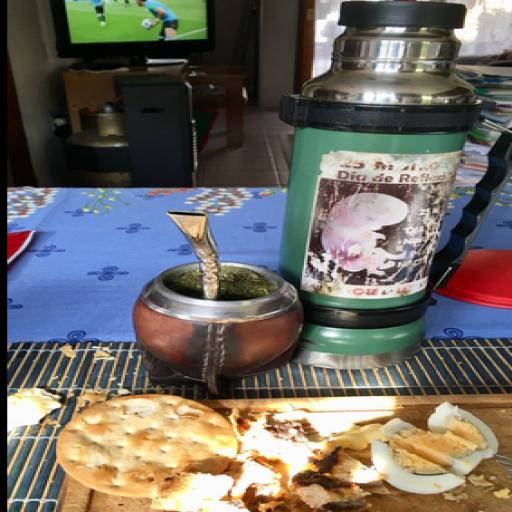bolleria: (57, 395, 238, 498)
mate: (133, 211, 303, 395)
termo: (279, 0, 511, 368)
